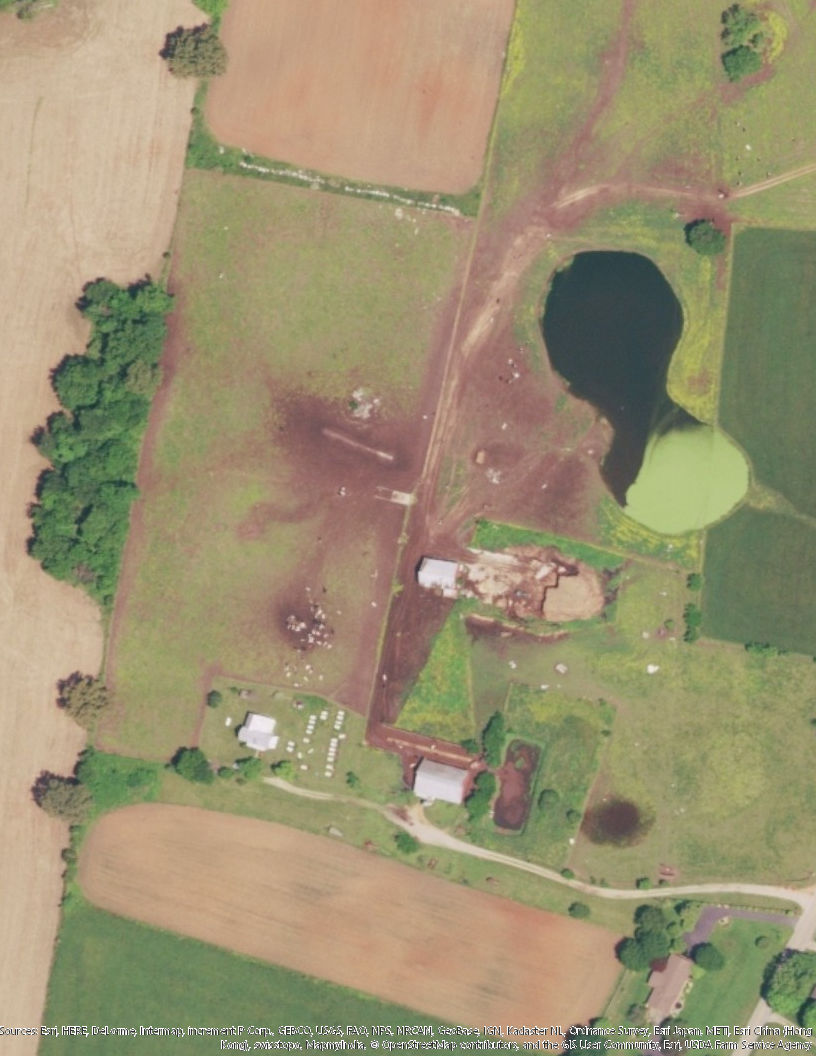cafo: (416, 549, 539, 615), (407, 756, 477, 808)
